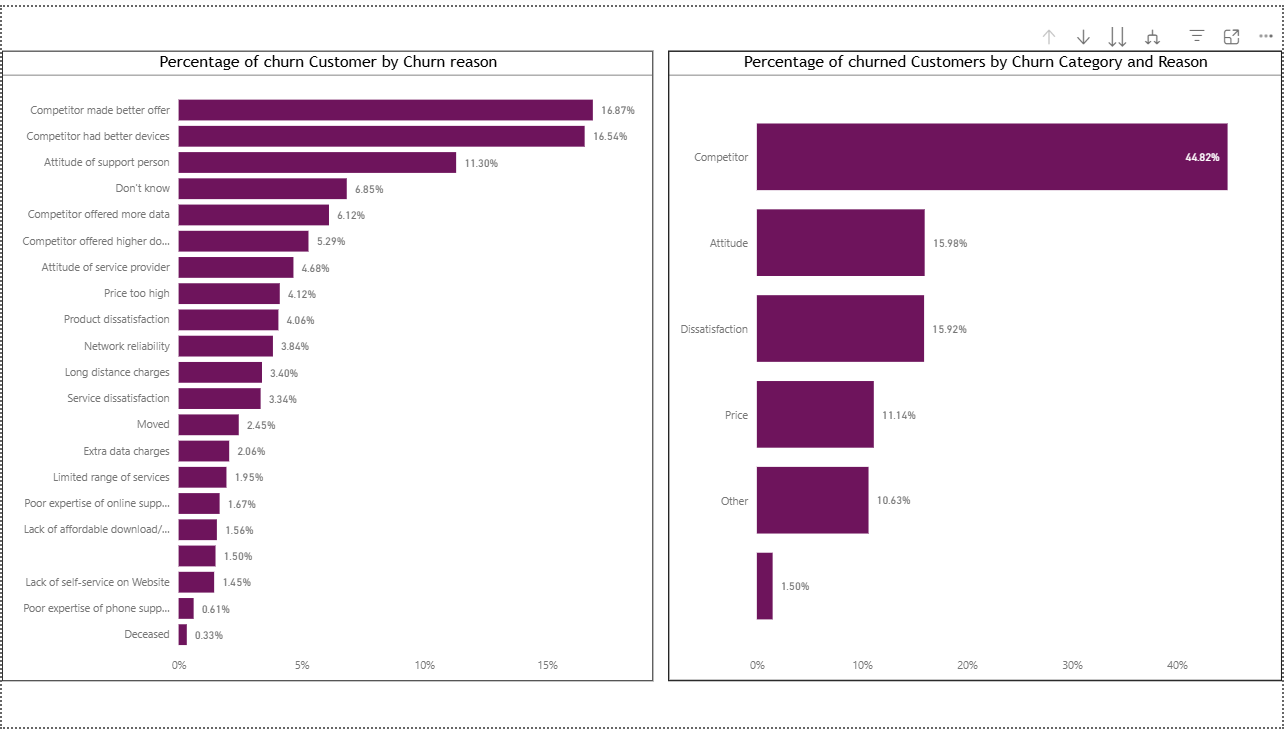

The page's visual inventory and layout, read from the dashboard file:
{"tool":"powerbi","page":{"name":"Main Reason For Churn","canvas":[1280,720],"ordinal":2},"visuals":[{"type":"barChart","title":"Percentage of churn Customer by Churn reason","fields":{"Category":["Databel - Data.Churn Reason"],"Y":["Databel - Data.No of churned Customers"]},"box":[0,43.8,651.2,630],"z":0},{"type":"barChart","title":"Percentage of churned Customers by Churn Category and Reason","fields":{"Y":["Databel - Data.No of churned Customers"],"Category":["Databel - Data.Churn Category","Databel - Data.Churn Reason"]},"box":[666.2,43.8,613.8,630],"z":1}]}

Visuals, with their boxes in screenshot pixels (x1, y1, x2, y2), scaled from the page's 1280x720 canvas onto the 1285x733 screenshot:
"Percentage of churn Customer by Churn reason" barChart: <region>0, 45, 654, 686</region>
"Percentage of churned Customers by Churn Category and Reason" barChart: <region>669, 45, 1284, 686</region>
